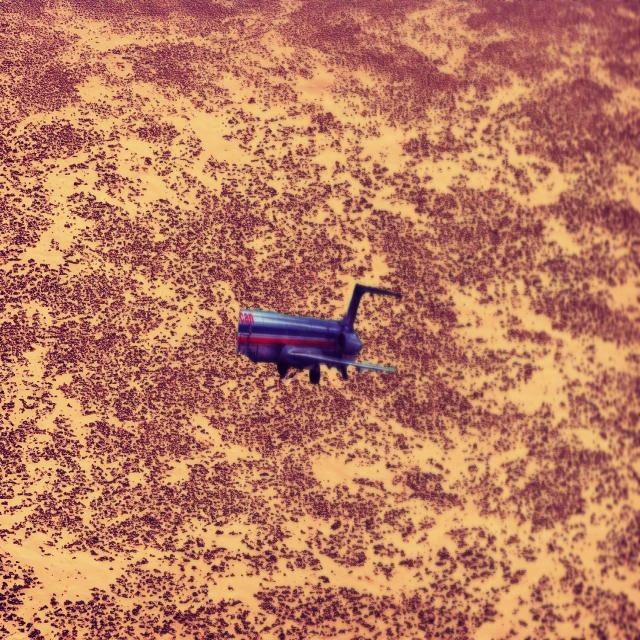airplane: (235, 282, 402, 384)
